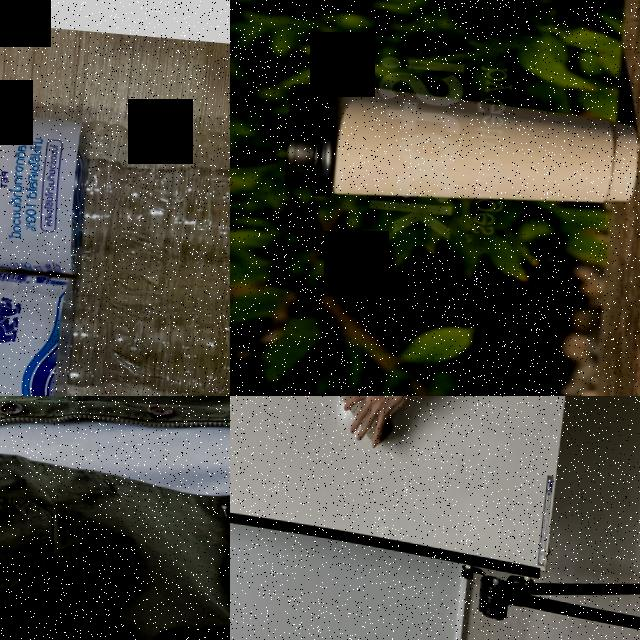bottle: (0, 92, 230, 304), (0, 252, 230, 396)
cup: (277, 73, 640, 222), (333, 396, 398, 448)
